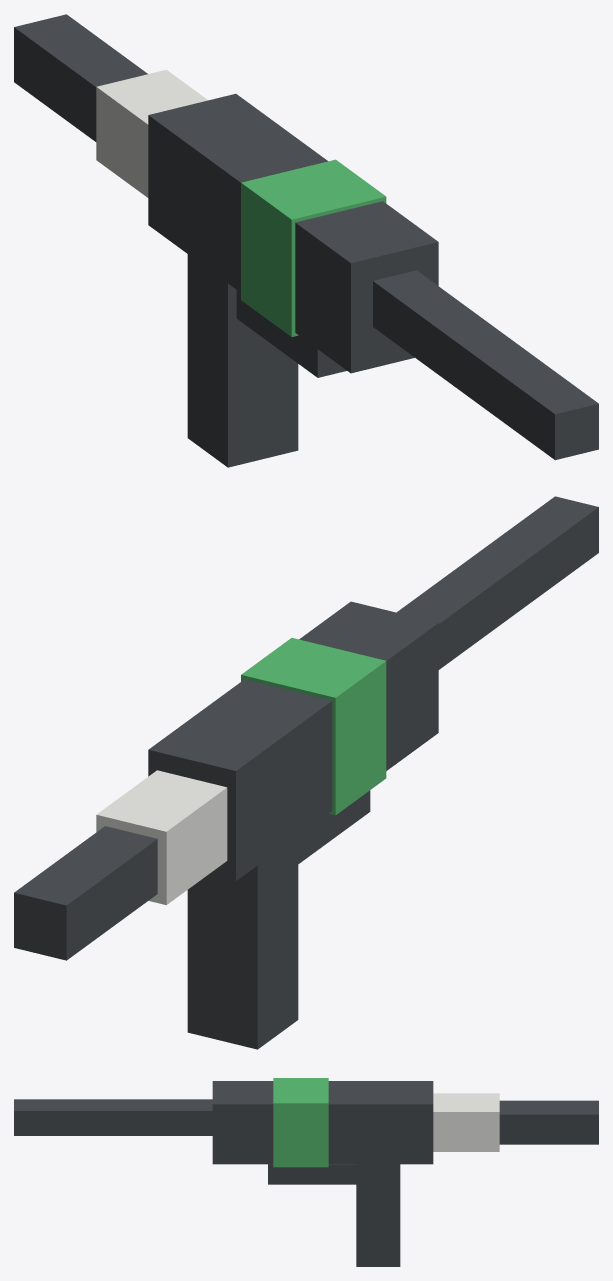
The model's file is fuel-nozzle.glb.
The picture shows the model from 3 angles, top to bottom: view 1: azimuth 30°, elevation 25°; view 2: azimuth 150°, elevation 25°; view 3: azimuth 270°, elevation 25°; orthographic projection. The views are drawn at different scales.
Visible parts, largest first — view 1: Prop_FuelNozzle_mesh; view 2: Prop_FuelNozzle_mesh; view 3: Prop_FuelNozzle_mesh.
Boxes of the visible parts, x1=… form: Prop_FuelNozzle_mesh: x1=14, y1=14, x2=598, y2=467; Prop_FuelNozzle_mesh: x1=14, y1=496, x2=598, y2=1049; Prop_FuelNozzle_mesh: x1=14, y1=1078, x2=598, y2=1266.
Bounding box in the file's own units: 0.054 × 0.167 × 0.53.
